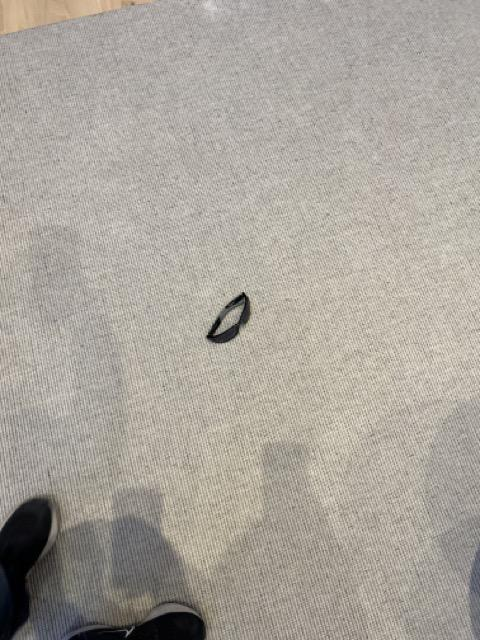Sunglasses: (207, 291, 252, 346)
